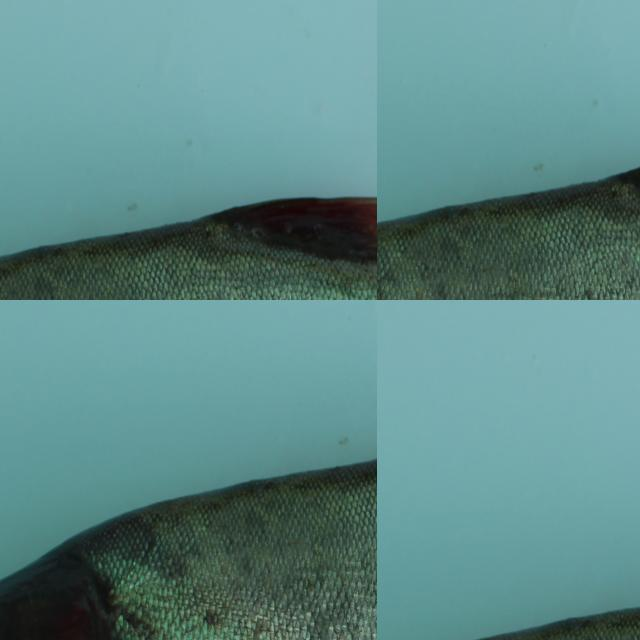fish: (377, 531, 640, 640)
